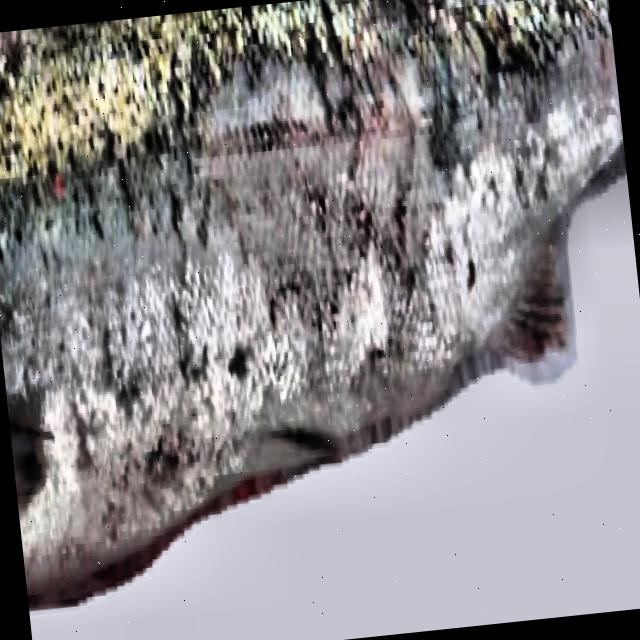mild_red: (0, 0, 622, 593)
wound: (49, 477, 282, 605)
